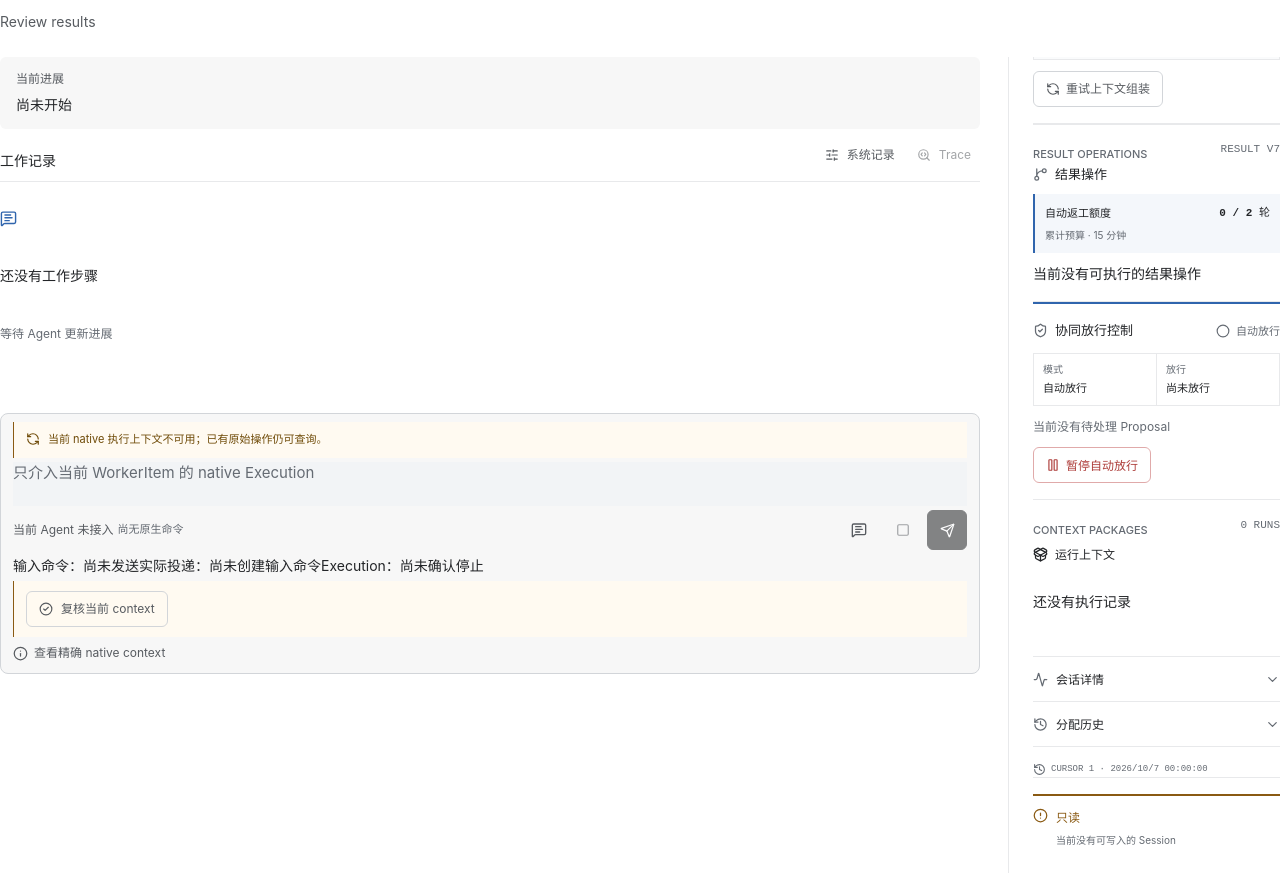
Test: native WorkerItem result actions Page › pauses an unadmitted closed-input WorkerItem with Wi9/generation2 and maps a new hold1
(page scrolled)
Step 1. Click the button "暂停自动放行" → {"x": 1092, "y": 466}, box left=1033, top=448, right=1151, bottom=484
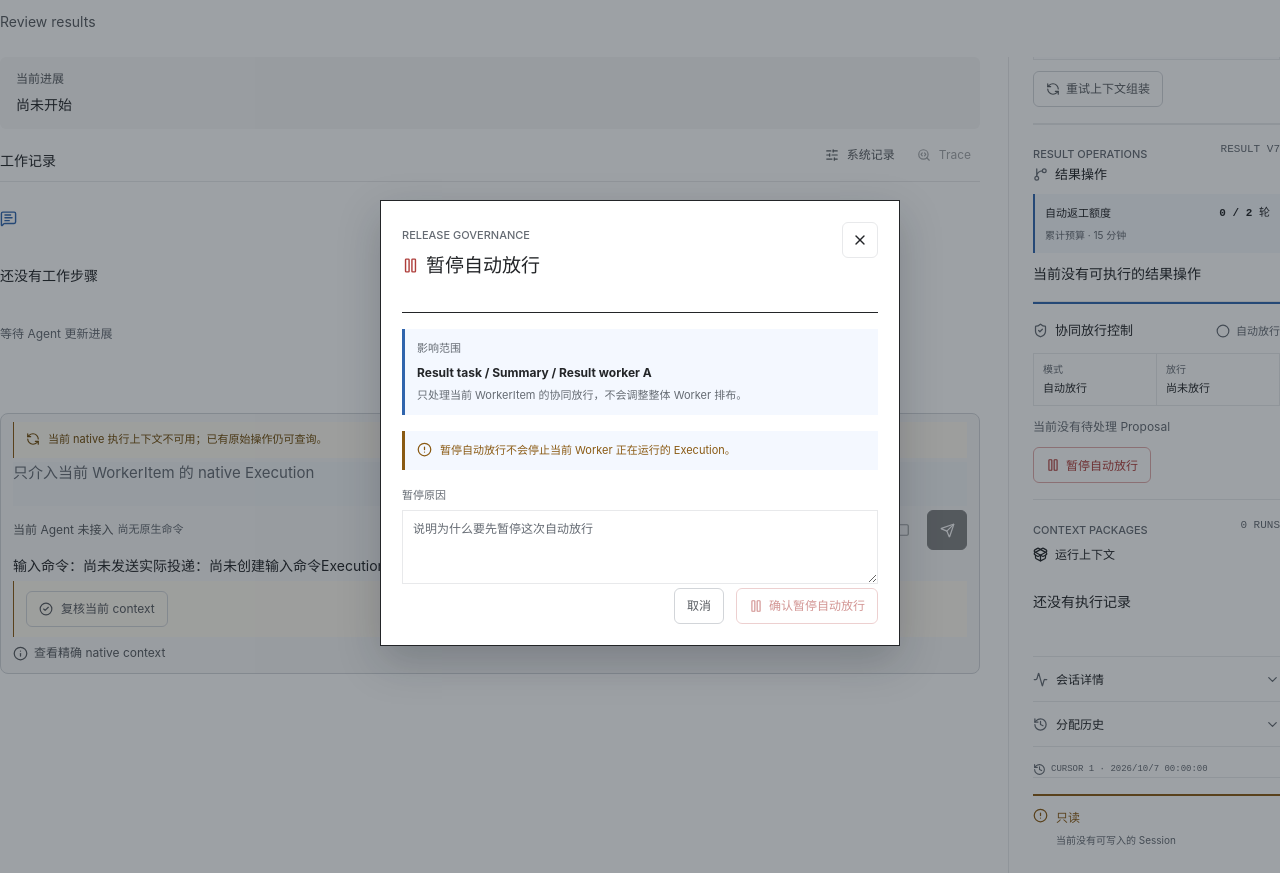
Step 2. Type "Review first" into the text box labelled "暂停原因" → {"x": 640, "y": 547}, box left=402, top=510, right=878, bottom=584
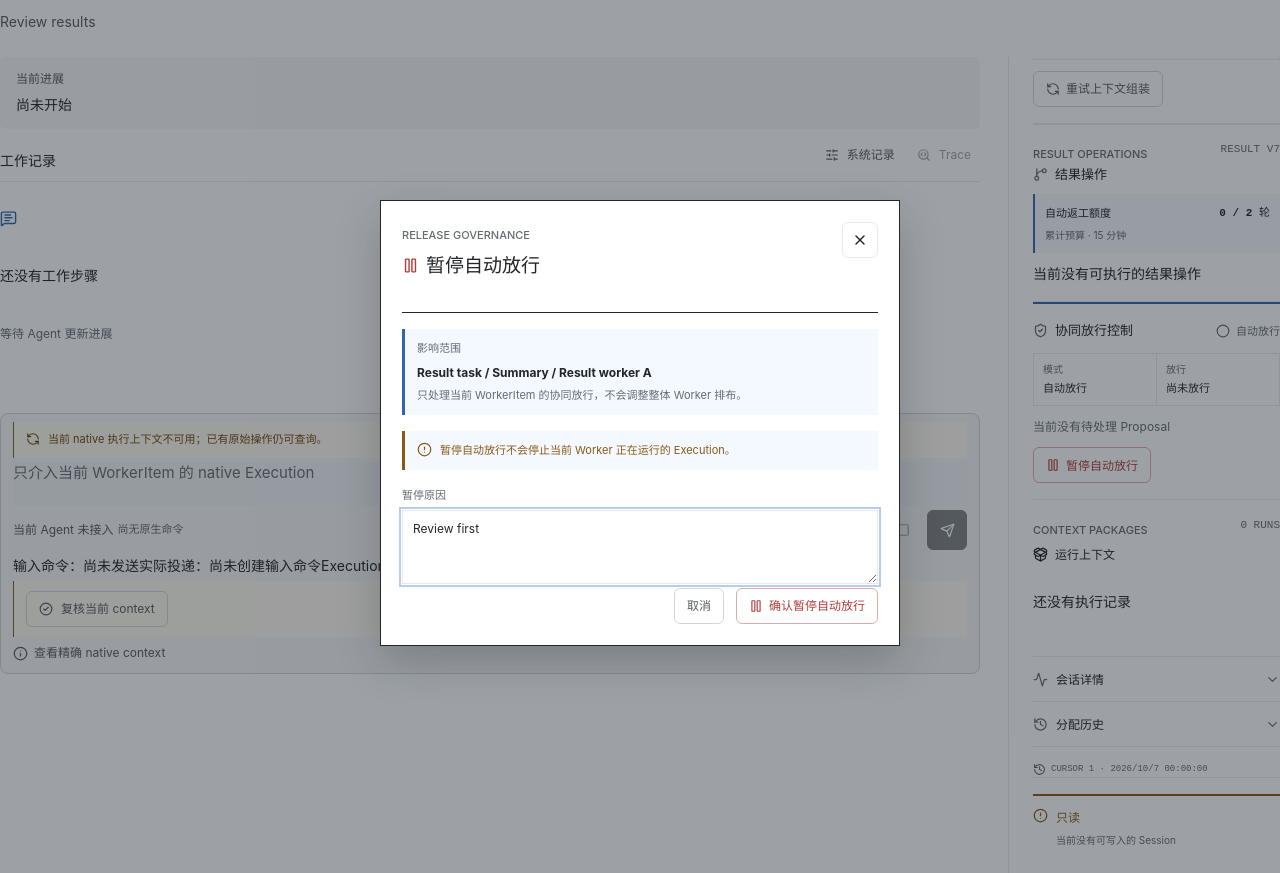
Step 3. Click the button "确认暂停自动放行" → {"x": 807, "y": 606}, box left=736, top=588, right=878, bottom=624
(page scrolled)
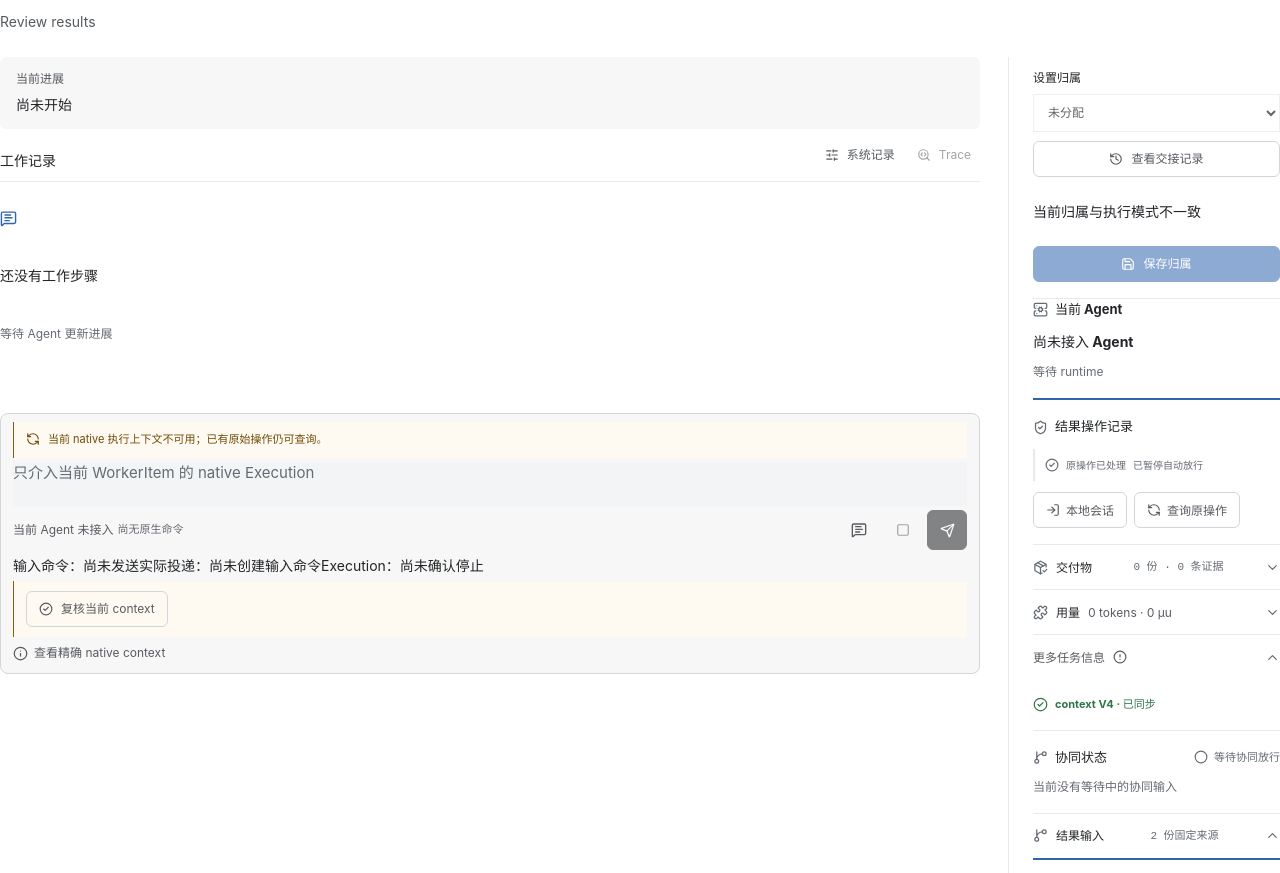
Now the text "已暂停自动放行" is shown, box left=1133, top=458, right=1203, bottom=472
Now the text "原操作已处理" is shown, box left=1066, top=458, right=1126, bottom=472
